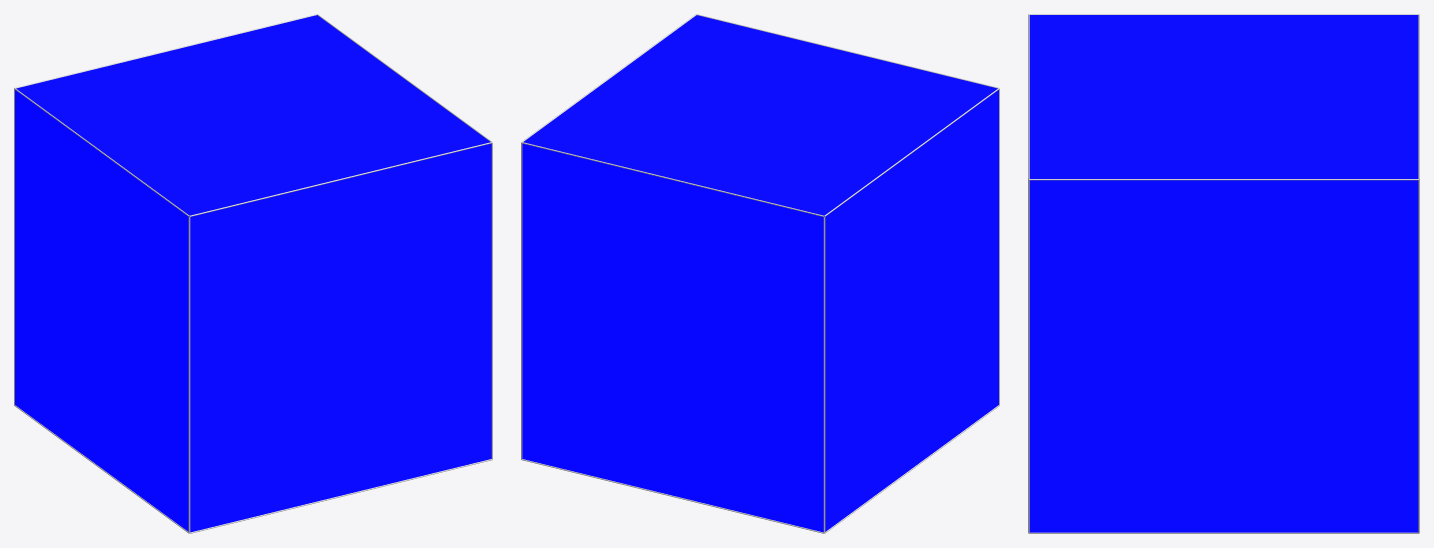
File: datastream_locki_1.glb
3 views of the same model, side by side, from view 1: azimuth 30°, elevation 25°; view 2: azimuth 150°, elevation 25°; view 3: azimuth 270°, elevation 25° (orthographic). The views are drawn at different scales.
Parts seen in each view (by area): view 1: Structure_1, Splines_Structure_1; view 2: Structure_1, Splines_Structure_1; view 3: Structure_1, Splines_Structure_1.
Part boxes in pixels (x1,y1,x2,y2): Structure_1: (15,15,491,532); Splines_Structure_1: (14,14,492,533); Structure_1: (522,15,998,532); Splines_Structure_1: (521,14,999,533); Structure_1: (1029,15,1418,532); Splines_Structure_1: (1028,14,1419,533).
Bounding box in the file's own units: 5.02 × 5.02 × 5.02.
